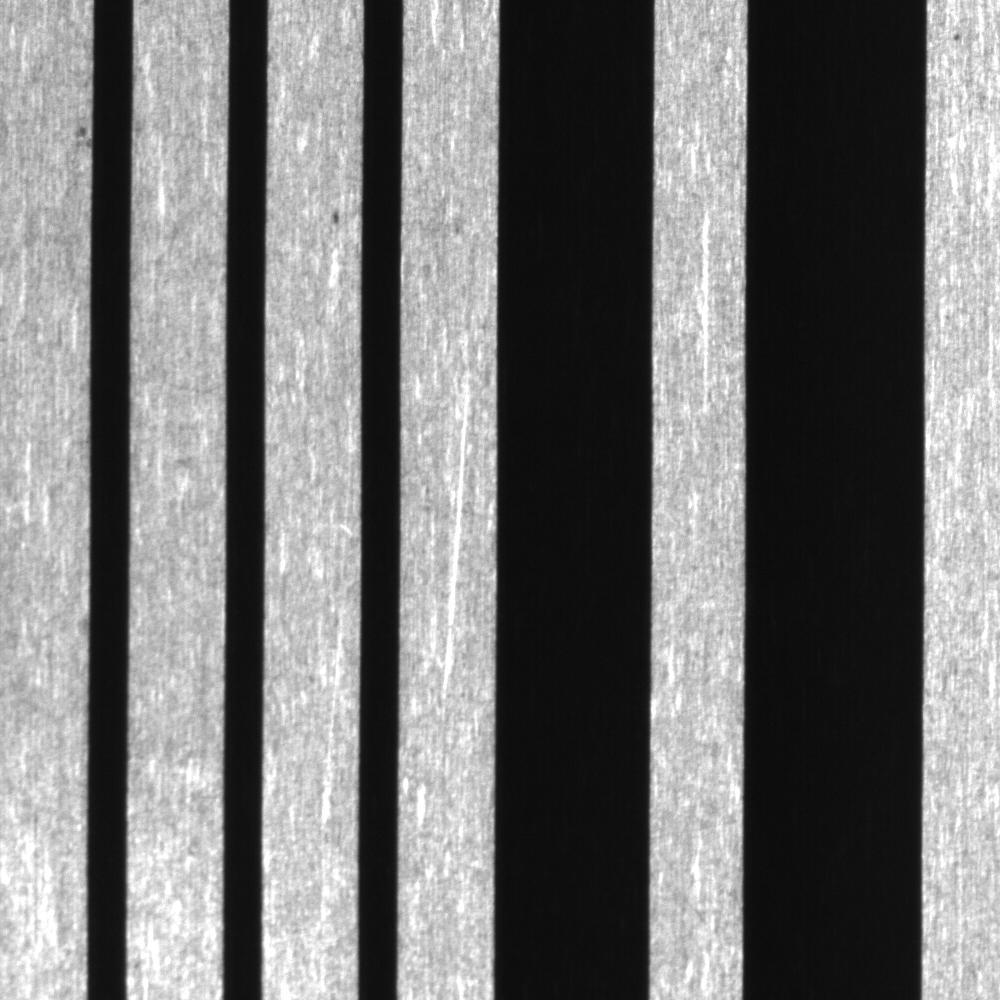Etching: (54, 115, 93, 161), (315, 197, 355, 237)
